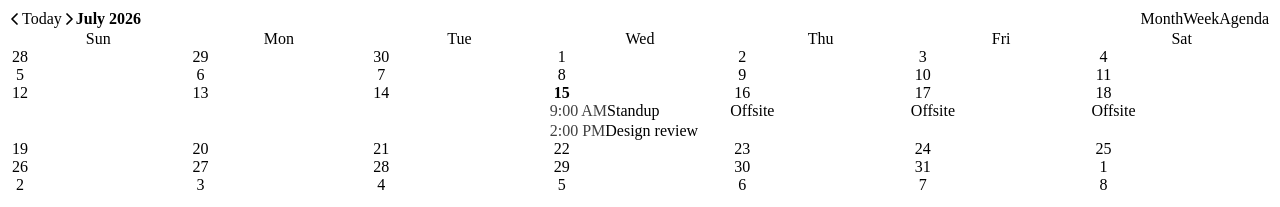
Test: CalendarView › switches to the week view
Click the text "Week" at (1201, 19), box [1183, 11, 1219, 27]
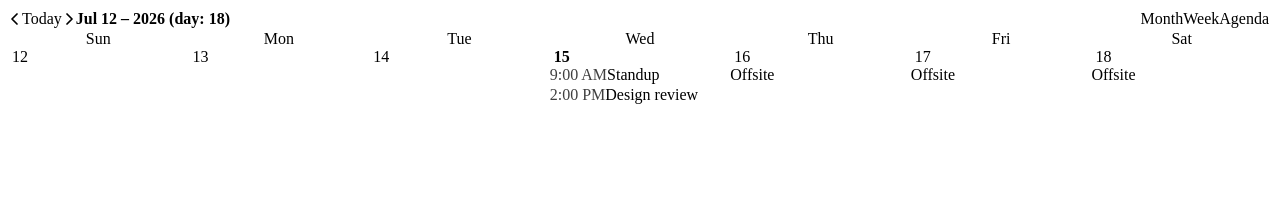
Expected: the number of cells is 7
